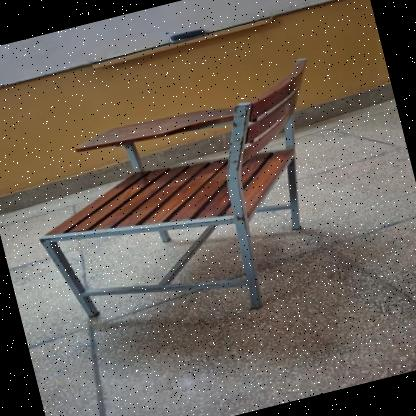chair: (3, 49, 370, 366)
